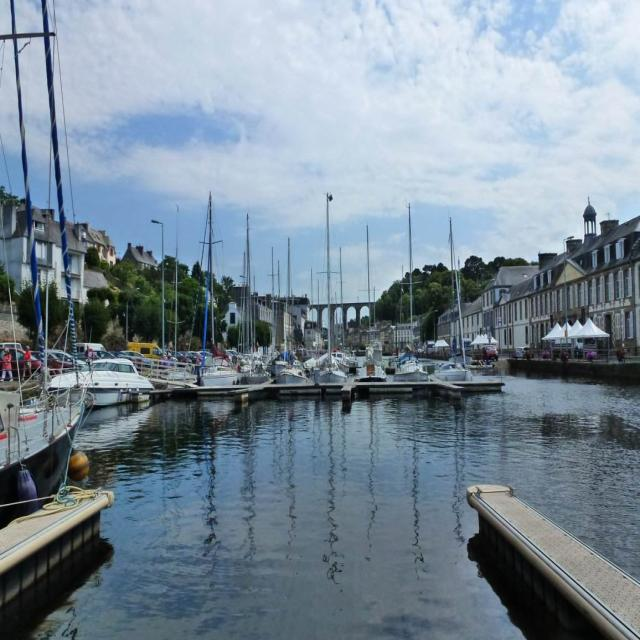passenger ship: (50, 328, 136, 402), (427, 347, 496, 400)
